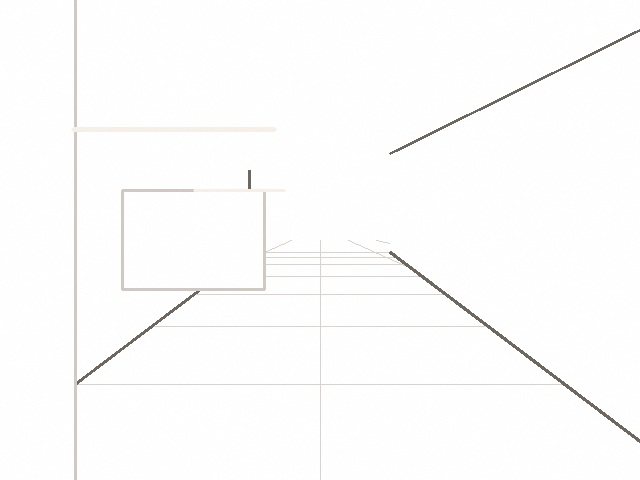hospital_bed: (0, 0, 274, 479), (122, 190, 284, 289)
